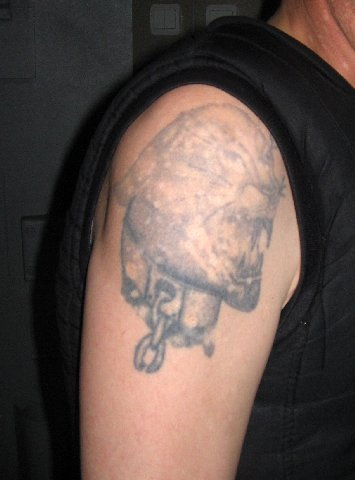tatu5_tigr: (111, 100, 287, 314)
